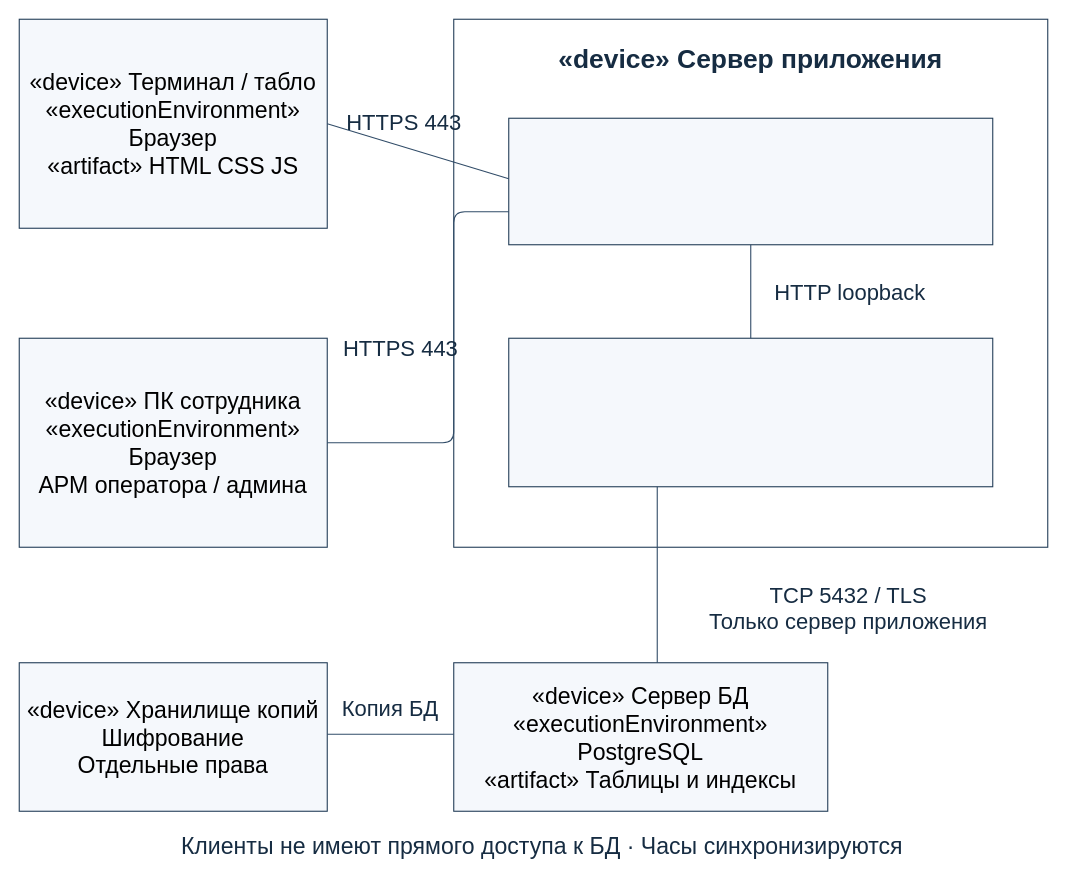
This 1067x879 diagram has some shape labels left out. The centre of each missing label's shape, as x and y in pixels:
«executionEnvironment» Reverse proxy · HTTPS TLS · rate limit: point (750, 181)
«executionEnvironment» WSGI / Python «artifact» Flask + модули + SQLAlchemy: point (750, 412)
